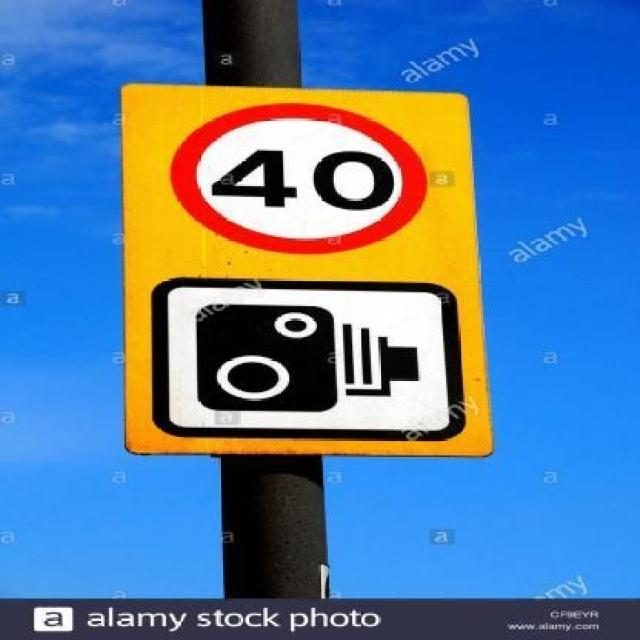forb_speed_over_40: (170, 104, 430, 258)
